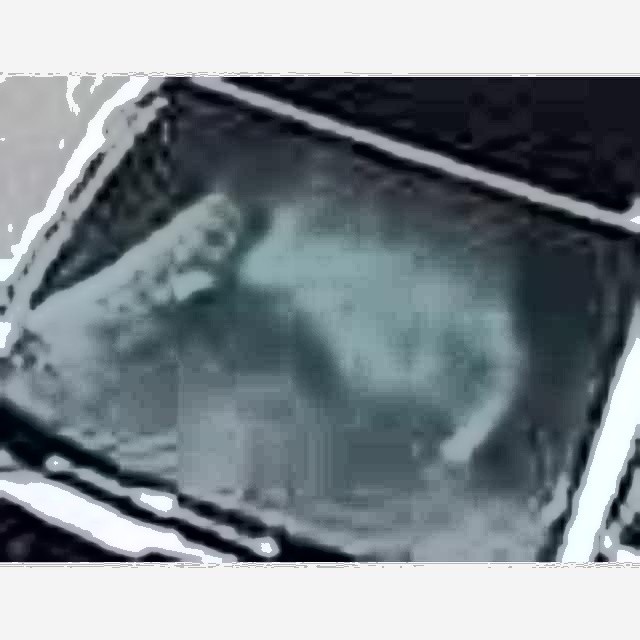tidak-pakai: (243, 143, 508, 430)
